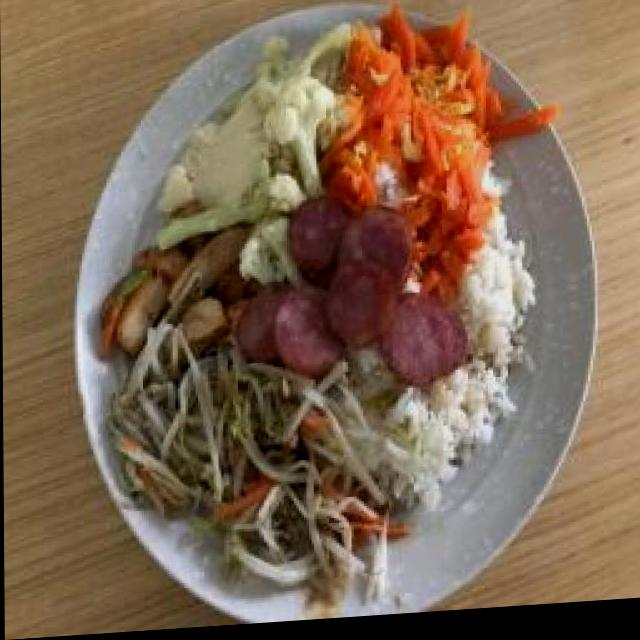carrot_eggs: (327, 9, 497, 298)
chinese_sausage: (238, 194, 467, 399)
mung_bean_sprouts: (105, 335, 390, 605)
rice: (380, 382, 506, 511)
